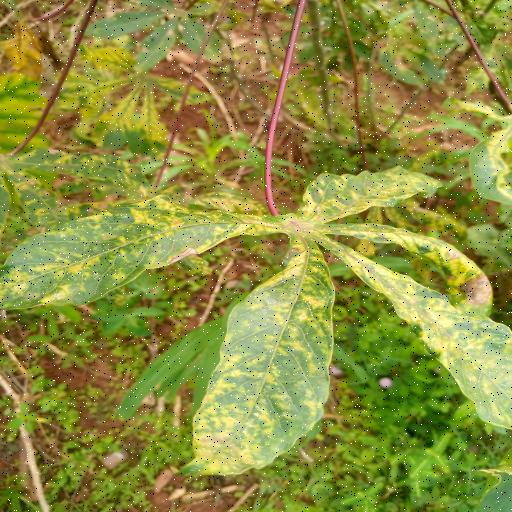Cassava_Mosaic: (2, 166, 512, 478)
